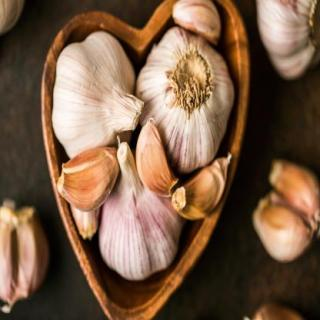Bawang Putih: (138, 28, 236, 171), (53, 32, 143, 159), (99, 179, 182, 281), (59, 149, 120, 213), (173, 160, 229, 221), (137, 122, 180, 201)
